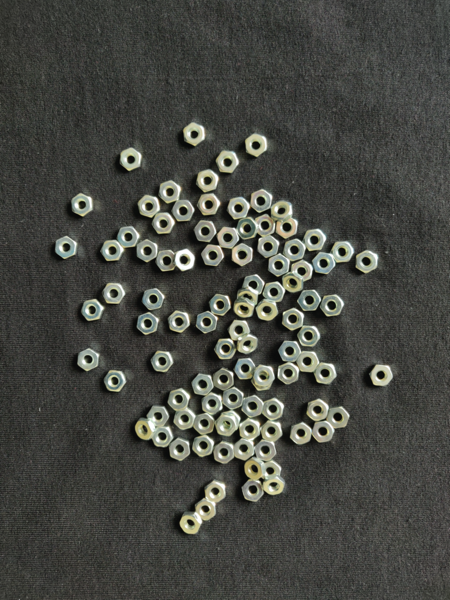nut: (183, 122, 206, 147), (245, 133, 268, 158), (216, 150, 239, 174), (196, 169, 219, 193), (71, 193, 94, 217), (226, 197, 250, 220), (303, 228, 327, 251), (312, 251, 336, 274), (167, 311, 191, 334), (81, 299, 105, 322), (369, 365, 394, 387), (213, 367, 235, 392), (169, 437, 191, 462), (158, 181, 181, 204), (55, 237, 78, 260), (173, 249, 196, 272), (257, 236, 280, 259), (283, 239, 306, 262), (192, 373, 215, 396), (307, 399, 330, 422), (327, 406, 350, 429), (290, 422, 313, 445), (180, 512, 203, 535), (251, 189, 273, 213), (356, 250, 378, 274), (321, 295, 345, 317), (102, 283, 126, 305), (314, 363, 338, 385), (252, 365, 276, 387), (193, 434, 215, 458), (262, 474, 286, 496), (204, 480, 226, 504), (120, 148, 142, 171), (172, 200, 195, 222), (138, 195, 160, 218), (271, 200, 293, 223), (194, 221, 217, 243), (117, 227, 140, 249), (331, 241, 354, 263), (291, 260, 314, 282), (268, 254, 290, 277), (256, 299, 279, 321), (283, 308, 305, 331), (209, 294, 231, 317), (196, 311, 218, 334), (142, 289, 165, 311), (104, 370, 127, 392), (78, 349, 100, 372), (168, 388, 190, 411), (222, 387, 244, 410), (242, 395, 264, 418), (262, 398, 284, 421), (135, 418, 157, 441), (215, 414, 237, 437), (261, 421, 284, 443), (255, 440, 277, 463), (242, 480, 265, 502), (195, 498, 217, 521), (100, 241, 124, 262), (137, 239, 158, 263), (298, 290, 322, 311), (227, 320, 251, 341), (278, 341, 302, 362), (297, 351, 321, 372), (217, 227, 239, 249), (237, 218, 259, 240), (277, 217, 299, 239), (202, 245, 224, 267), (282, 271, 304, 293), (137, 313, 159, 335), (278, 363, 300, 385), (234, 358, 256, 380), (313, 421, 335, 443), (174, 408, 196, 430), (198, 194, 221, 215), (152, 213, 175, 234), (232, 244, 253, 267), (263, 281, 286, 302), (298, 326, 321, 347), (214, 339, 237, 360), (151, 351, 174, 372), (240, 418, 261, 441), (214, 441, 235, 464), (245, 457, 266, 480), (237, 333, 258, 355), (202, 393, 223, 415), (194, 413, 215, 435), (152, 427, 174, 448), (234, 439, 255, 461), (256, 214, 276, 237), (242, 275, 265, 295), (147, 406, 170, 426), (155, 250, 175, 272), (237, 287, 259, 307), (234, 299, 255, 318), (251, 372, 272, 391), (222, 411, 241, 431), (262, 461, 281, 480)
